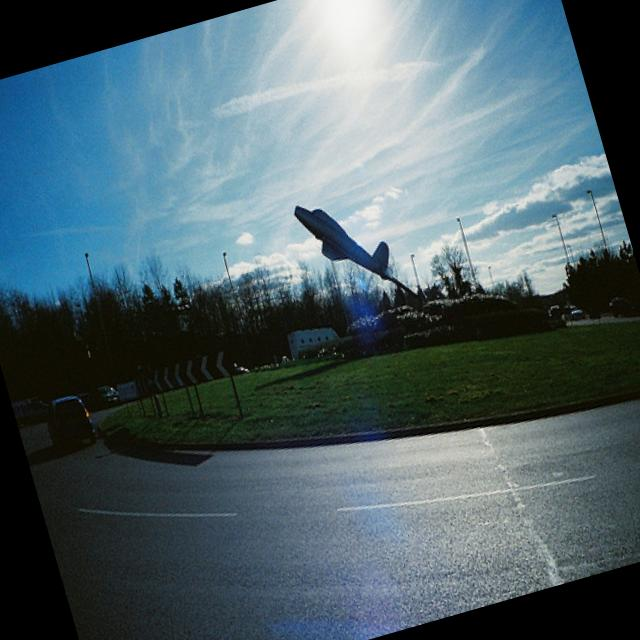Vehicle: (39, 388, 100, 454), (81, 380, 122, 413), (605, 290, 640, 322), (568, 303, 586, 322)
